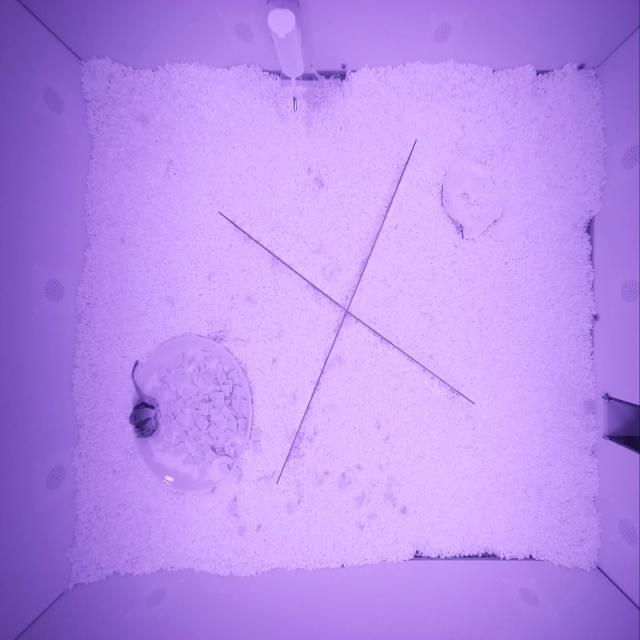pup_h_stripe: (128, 394, 161, 439)
